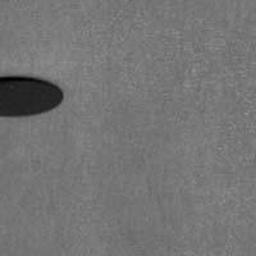Punching: (0, 76, 65, 118)
